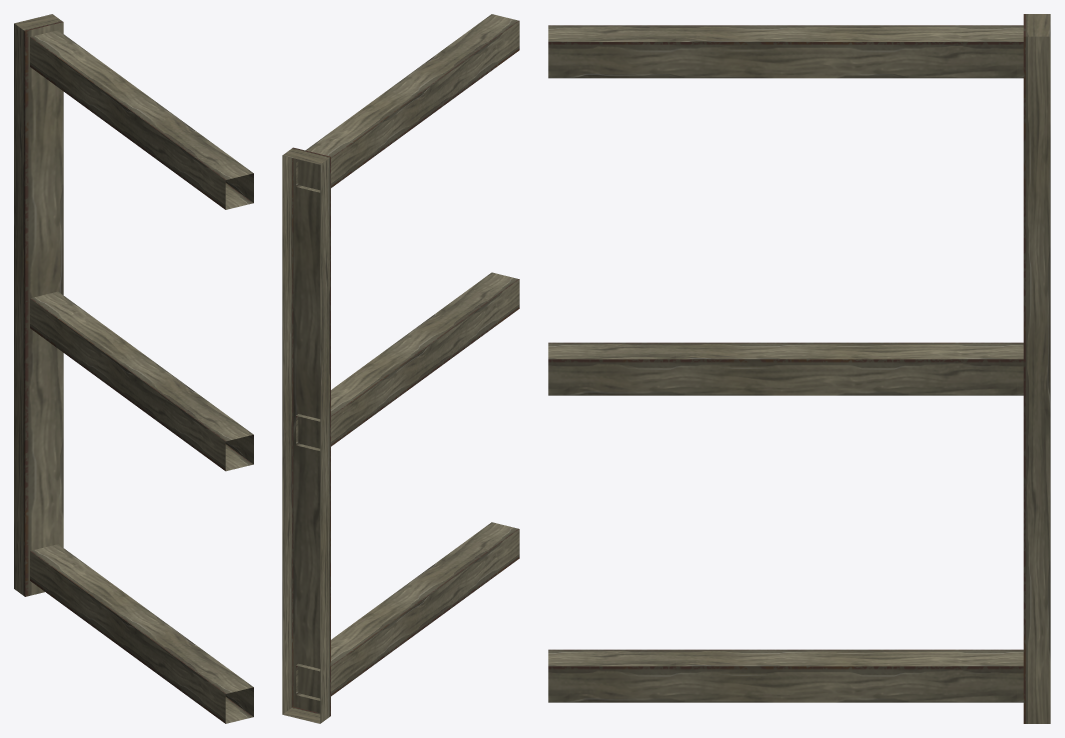
Rendered from Platform_Short_Structure_A.fbx.
3 renders of one model, left to right at view 1: azimuth 30°, elevation 25°; view 2: azimuth 150°, elevation 25°; view 3: azimuth 270°, elevation 25°, orthographic. The views are drawn at different scales.
Visible parts, largest first — view 1: Platform_Short_Structure_A; view 2: Platform_Short_Structure_A; view 3: Platform_Short_Structure_A.
Part boxes in pixels (x1=…): Platform_Short_Structure_A: x1=14, y1=14, x2=253, y2=723; Platform_Short_Structure_A: x1=282, y1=14, x2=519, y2=723; Platform_Short_Structure_A: x1=548, y1=14, x2=1050, y2=723.
Size of the model in its own units: 0.4005 by 5.64 by 3.74.
